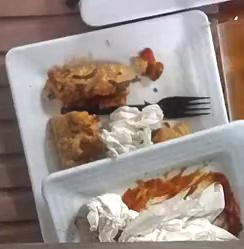pizza_crust: (46, 64, 136, 104), (50, 112, 105, 168)
unknown: (131, 48, 163, 81)
